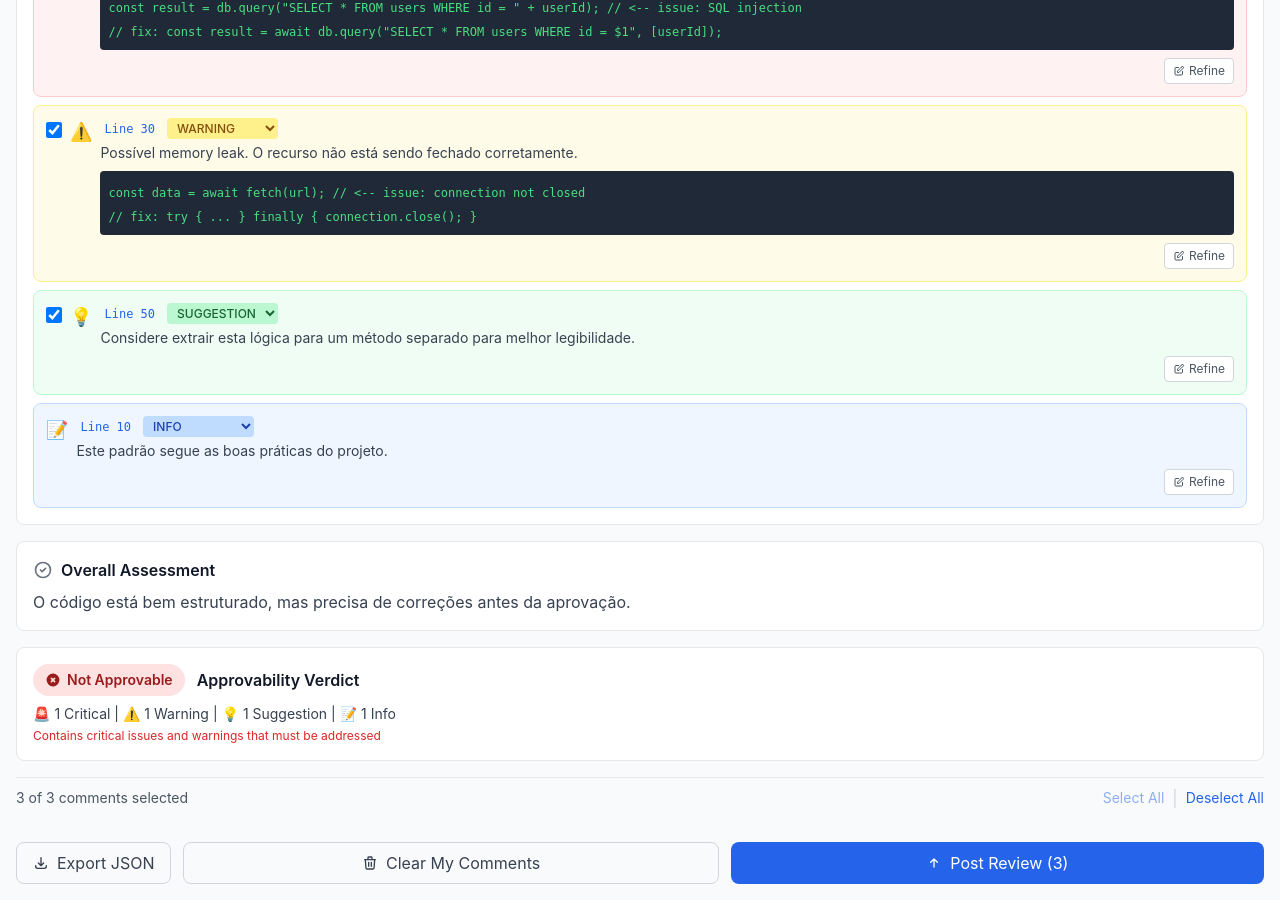
Test: ReviewDisplayView › Post Review Flow › should show post dialog when clicking Post Review button
(page scrolled)
Click the button "Post Review (3)". click: click(997, 863)
box: [731, 842, 1264, 884]
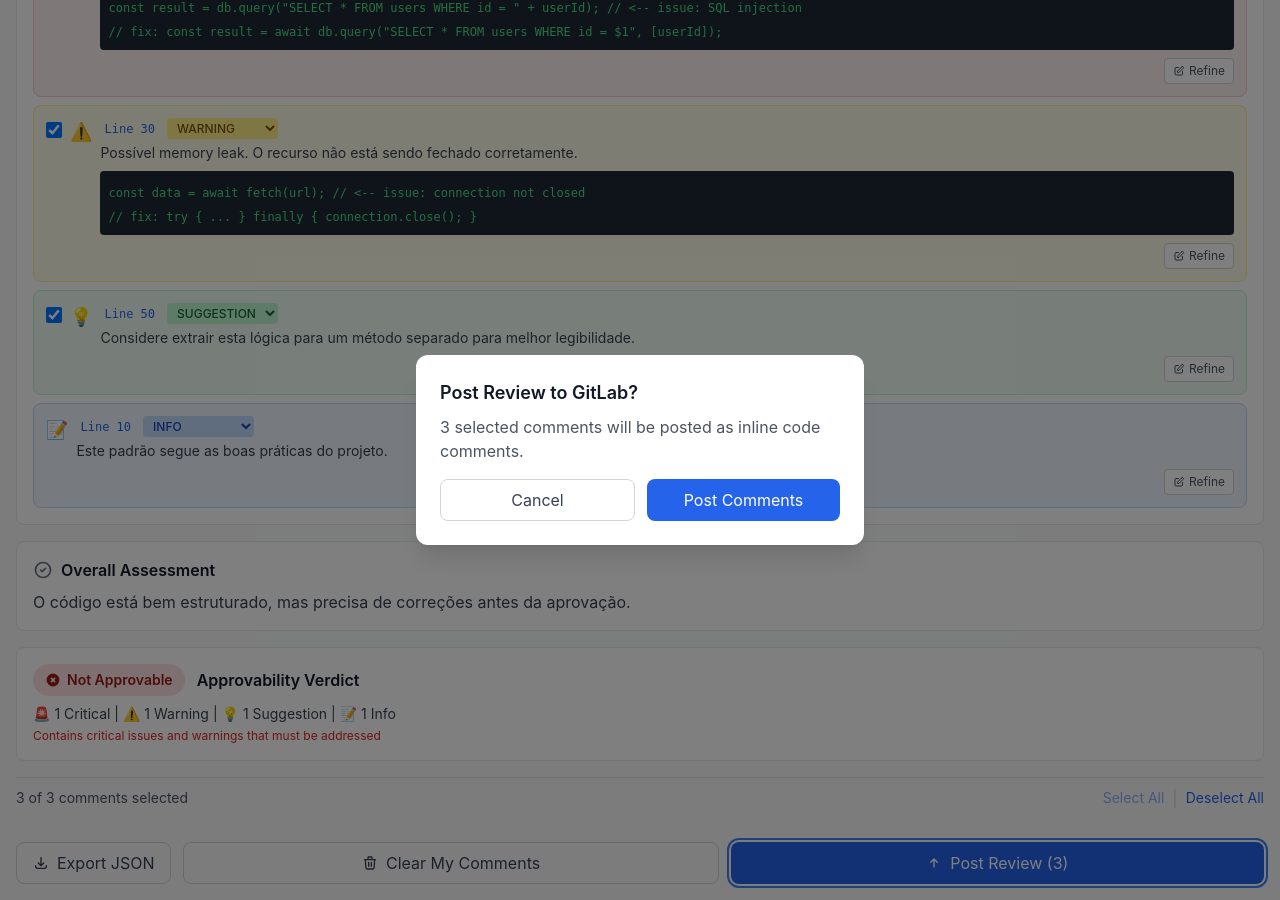
Now the heading "Post Review to GitLab?" is shown, box [440, 382, 638, 403]
Now the text "3 selected comments will be posted as inline code comments." is shown, box [440, 415, 840, 463]
